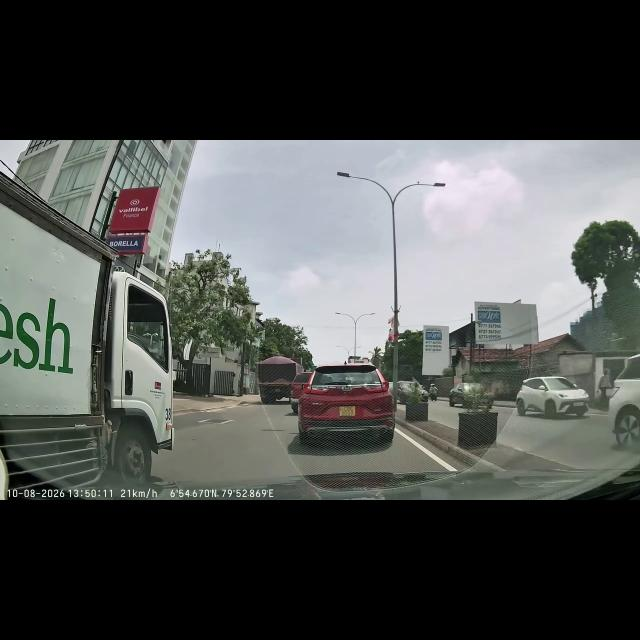car: (312, 371, 388, 434)
number_plate: (337, 404, 358, 418)
truck: (78, 259, 178, 473)
